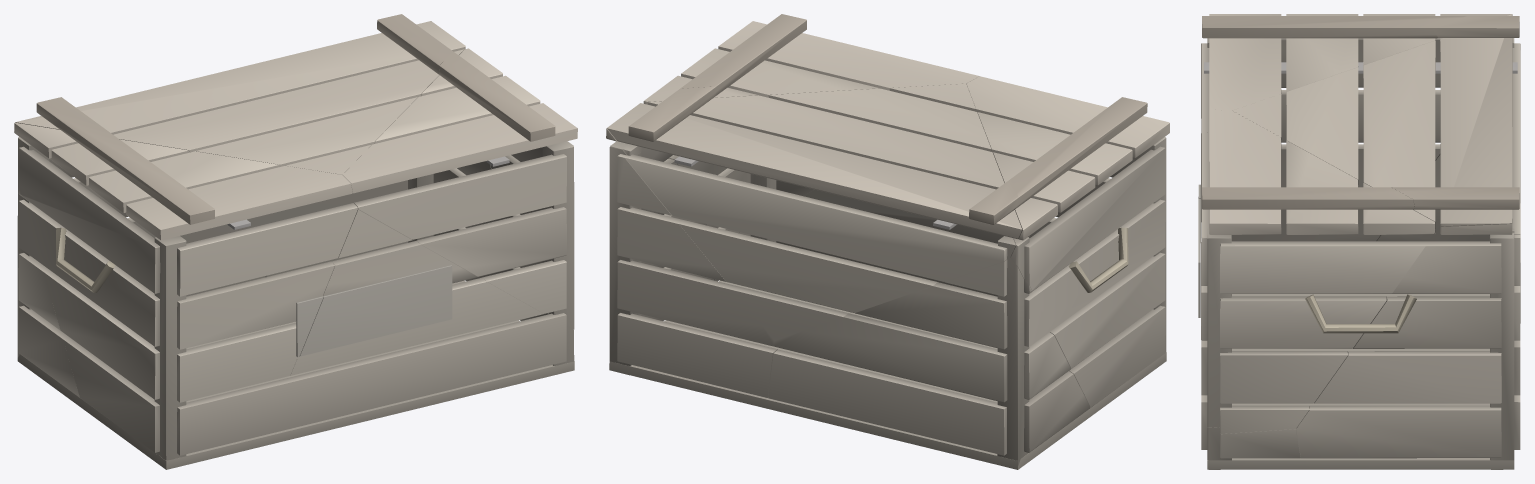
The model's file is loot-crate.glb.
3 views of the same model, side by side, from view 1: azimuth 30°, elevation 25°; view 2: azimuth 150°, elevation 25°; view 3: azimuth 270°, elevation 25° (orthographic). The views are drawn at different scales.
Parts seen in each view (by area): view 1: c03, c01, c04, c05, c00, c02; view 2: c05, c03, c00, c02, c04, c01; view 3: c04, c02, c05, c03, c01, c00.
Boxes of the visible parts, x1,y1,x2,y2 form: c03: (14, 121, 357, 469); c01: (244, 209, 574, 447); c04: (343, 48, 577, 329); c05: (15, 14, 465, 227); c00: (17, 158, 296, 414); c02: (265, 161, 522, 326); c05: (607, 83, 1022, 340); c03: (966, 76, 1169, 415); c00: (768, 258, 1091, 469); c02: (606, 128, 796, 408); c04: (643, 14, 979, 232); c01: (714, 189, 1029, 365); c04: (1201, 109, 1434, 433); c02: (1296, 224, 1520, 469); c05: (1232, 14, 1520, 298); c03: (1198, 14, 1511, 296); c01: (1198, 198, 1386, 469); c00: (1315, 155, 1520, 351).
Bounding box in the file's own units: 1.03 × 0.5581 × 0.6275.
